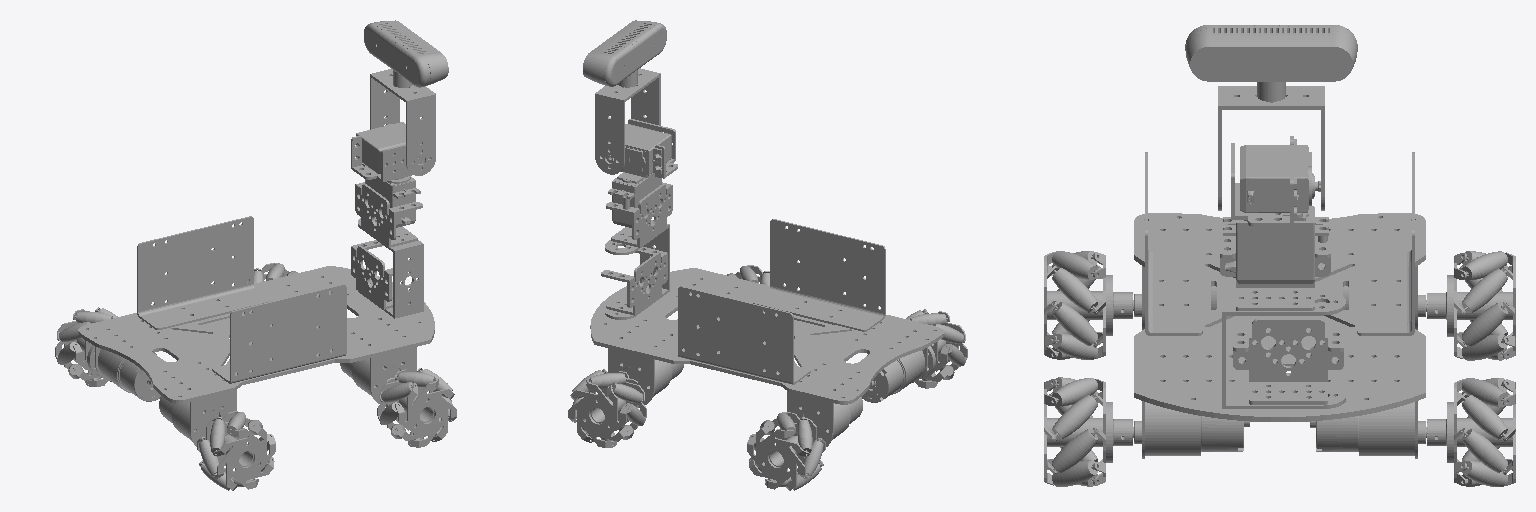
--- Facts derived from the render (not from the file) ---
3 views of the same robot in one strip: view 1: azimuth 30°, elevation 25°; view 2: azimuth 150°, elevation 25°; view 3: azimuth 270°, elevation 25° (orthographic).
Robot: CAR_v000 — 57 links, 56 joints (38 continuous, 18 fixed); root link base_link; default pose: every joint at zero.
Visible links, largest first — view 1: base_link, Side_board_2, Side_board_1, Gear_Pan_Neck_1, D354_1, RightWheel_2, LeftWheel_2, Gear_Pan_Base_1, carboat_2_1, carboat_bot_1, Wheel_Motor_1, carboat_3_1 (+7 smaller); view 2: base_link, Side_board_1, Side_board_2, Gear_Pan_Neck_1, D354_1, LeftWheel_1, RightWheel_1, carboat_bot_1, carboat_2_1, Servo2_1, Wheel_Motor_4, Servo1_1 (+7 smaller); view 3: base_link, D354_1, carboat_bot_1, Servo1_1, Side_board_1, Side_board_2, Servo2_1, Wheel_Motor_2, Wheel_Motor_3, carboat_2_1, LeftWheel_1, LeftWheel_2 (+22 smaller).
Link boxes in pixels (left/top/right/bottom): base_link: left=78, top=266, right=434, bottom=403; Side_board_2: left=137, top=216, right=270, bottom=329; Side_board_1: left=212, top=284, right=346, bottom=383; Gear_Pan_Neck_1: left=370, top=69, right=435, bottom=175; D354_1: left=364, top=20, right=448, bottom=87; RightWheel_2: left=377, top=368, right=456, bottom=447; LeftWheel_2: left=197, top=411, right=275, bottom=490; Gear_Pan_Base_1: left=358, top=217, right=423, bottom=318; carboat_2_1: left=355, top=182, right=422, bottom=247; carboat_bot_1: left=351, top=240, right=409, bottom=309; Wheel_Motor_1: left=98, top=349, right=160, bottom=401; carboat_3_1: left=351, top=136, right=429, bottom=182; base_link: left=590, top=268, right=943, bottom=404; Side_board_1: left=753, top=219, right=885, bottom=331; Side_board_2: left=678, top=286, right=810, bottom=384; Gear_Pan_Neck_1: left=595, top=68, right=660, bottom=174; D354_1: left=583, top=20, right=666, bottom=86; LeftWheel_1: left=568, top=369, right=646, bottom=447; RightWheel_1: left=747, top=412, right=825, bottom=490; carboat_bot_1: left=601, top=247, right=667, bottom=315; carboat_2_1: left=606, top=182, right=672, bottom=247; Servo2_1: left=601, top=124, right=671, bottom=175; Wheel_Motor_4: left=862, top=350, right=924, bottom=402; Servo1_1: left=608, top=172, right=661, bottom=227; base_link: left=1134, top=213, right=1425, bottom=421; D354_1: left=1185, top=25, right=1357, bottom=81; carboat_bot_1: left=1233, top=319, right=1343, bottom=404; Servo1_1: left=1223, top=206, right=1328, bottom=283; Side_board_1: left=1145, top=152, right=1202, bottom=335; Side_board_2: left=1357, top=152, right=1414, bottom=335; Servo2_1: left=1240, top=139, right=1320, bottom=218; Wheel_Motor_2: left=1310, top=402, right=1437, bottom=455; Wheel_Motor_3: left=1122, top=402, right=1249, bottom=455; carboat_2_1: left=1220, top=233, right=1330, bottom=310; LeftWheel_1: left=1427, top=379, right=1515, bottom=485; LeftWheel_2: left=1044, top=252, right=1132, bottom=358.
Bounding box of the posed robot: 0.2587 × 0.2457 × 0.2818 m (x, y, z).
Meshes: 57 distinct files referenced, 57 mesh visuals loaded (57 binary STL).

URDF robot description (CAR_v000):
<?xml version="1.0" ?>
<robot name="CAR_v000">

<material name="silver">
  <color rgba="0.700 0.700 0.700 1.000"/>
</material>

<link name="base_link">
  <inertial>
    <origin rpy="0 0 0" xyz="0.09570508957541472 -0.007999999999984186 -0.001500000000000009"/>
    <mass value="0.7665979453758464"/>
    <inertia ixx="0.001404" ixy="-0.0" ixz="0.0" iyy="0.00383" iyz="-0.0" izz="0.005233"/>
  </inertial>
  <visual>
    <origin rpy="0 0 0" xyz="0 0 0"/>
    <geometry>
      <mesh filename="meshes/base_link.stl" scale="0.001 0.001 0.001"/>
    </geometry>
    <material name="silver"/>
  </visual>
  <collision>
    <origin rpy="0 0 0" xyz="0 0 0"/>
    <geometry>
      <mesh filename="meshes/base_link.stl" scale="0.001 0.001 0.001"/>
    </geometry>
  </collision>
</link>

<link name="Wheel_Motor_holder_v4_1">
  <inertial>
    <origin rpy="0 0 0" xyz="0.014980279064389493 -0.0014695146767486275 -0.009738743339461516"/>
    <mass value="0.04206846428767663"/>
    <inertia ixx="1.5e-05" ixy="0.0" ixz="-0.0" iyy="1.3e-05" iyz="4e-06" izz="1.4e-05"/>
  </inertial>
  <visual>
    <origin rpy="0 0 0" xyz="0.009 -0.053 0.003"/>
    <geometry>
      <mesh filename="meshes/Wheel_Motor_holder_v4_1.stl" scale="0.001 0.001 0.001"/>
    </geometry>
    <material name="silver"/>
  </visual>
  <collision>
    <origin rpy="0 0 0" xyz="0.009 -0.053 0.003"/>
    <geometry>
      <mesh filename="meshes/Wheel_Motor_holder_v4_1.stl" scale="0.001 0.001 0.001"/>
    </geometry>
  </collision>
</link>

<link name="Wheel_Motor_holder_v4_2">
  <inertial>
    <origin rpy="0 0 0" xyz="-0.01501995653690974 -0.0014695146767421535 -0.009738743339461703"/>
    <mass value="0.04206846428767663"/>
    <inertia ixx="1.5e-05" ixy="0.0" ixz="-0.0" iyy="1.3e-05" iyz="4e-06" izz="1.4e-05"/>
  </inertial>
  <visual>
    <origin rpy="0 0 0" xyz="-0.177224 -0.053 0.003"/>
    <geometry>
      <mesh filename="meshes/Wheel_Motor_holder_v4_2.stl" scale="0.001 0.001 0.001"/>
    </geometry>
    <material name="silver"/>
  </visual>
  <collision>
    <origin rpy="0 0 0" xyz="-0.177224 -0.053 0.003"/>
    <geometry>
      <mesh filename="meshes/Wheel_Motor_holder_v4_2.stl" scale="0.001 0.001 0.001"/>
    </geometry>
  </collision>
</link>

<link name="Wheel_Motor_holder_v4_3">
  <inertial>
    <origin rpy="0 0 0" xyz="-0.014980514665696831 0.0014695146767694511 -0.009738743339462005"/>
    <mass value="0.04206846428767663"/>
    <inertia ixx="1.5e-05" ixy="0.0" ixz="0.0" iyy="1.3e-05" iyz="-4e-06" izz="1.4e-05"/>
  </inertial>
  <visual>
    <origin rpy="0 0 0" xyz="-0.177224 0.069 0.003"/>
    <geometry>
      <mesh filename="meshes/Wheel_Motor_holder_v4_3.stl" scale="0.001 0.001 0.001"/>
    </geometry>
    <material name="silver"/>
  </visual>
  <collision>
    <origin rpy="0 0 0" xyz="-0.177224 0.069 0.003"/>
    <geometry>
      <mesh filename="meshes/Wheel_Motor_holder_v4_3.stl" scale="0.001 0.001 0.001"/>
    </geometry>
  </collision>
</link>

<link name="Wheel_Motor_holder_v4_4">
  <inertial>
    <origin rpy="0 0 0" xyz="0.015019720935602422 0.001469514676748787 -0.00973874333946173"/>
    <mass value="0.04206846428767663"/>
    <inertia ixx="1.5e-05" ixy="0.0" ixz="0.0" iyy="1.3e-05" iyz="-4e-06" izz="1.4e-05"/>
  </inertial>
  <visual>
    <origin rpy="0 0 0" xyz="0.009 0.069 0.003"/>
    <geometry>
      <mesh filename="meshes/Wheel_Motor_holder_v4_4.stl" scale="0.001 0.001 0.001"/>
    </geometry>
    <material name="silver"/>
  </visual>
  <collision>
    <origin rpy="0 0 0" xyz="0.009 0.069 0.003"/>
    <geometry>
      <mesh filename="meshes/Wheel_Motor_holder_v4_4.stl" scale="0.001 0.001 0.001"/>
    </geometry>
  </collision>
</link>

<link name="Side_board_1">
  <inertial>
    <origin rpy="0 0 0" xyz="-0.01494917383573581 -0.0028935529397421528 0.020556902828266686"/>
    <mass value="0.10281385598487688"/>
    <inertia ixx="4.7e-05" ixy="0.0" ixz="-0.0" iyy="0.000126" iyz="1e-05" izz="9.3e-05"/>
  </inertial>
  <visual>
    <origin rpy="0 0 0" xyz="-0.087 0.0699 0.0"/>
    <geometry>
      <mesh filename="meshes/Side_board_1.stl" scale="0.001 0.001 0.001"/>
    </geometry>
    <material name="silver"/>
  </visual>
  <collision>
    <origin rpy="0 0 0" xyz="-0.087 0.0699 0.0"/>
    <geometry>
      <mesh filename="meshes/Side_board_1.stl" scale="0.001 0.001 0.001"/>
    </geometry>
  </collision>
</link>

<link name="Side_board_2">
  <inertial>
    <origin rpy="0 0 0" xyz="0.014949173835727282 0.0028935529397536713 0.020556902828266877"/>
    <mass value="0.10281385598487688"/>
    <inertia ixx="4.7e-05" ixy="0.0" ixz="0.0" iyy="0.000126" iyz="-1e-05" izz="9.3e-05"/>
  </inertial>
  <visual>
    <origin rpy="0 0 0" xyz="-0.057 -0.0539 -0.0"/>
    <geometry>
      <mesh filename="meshes/Side_board_2.stl" scale="0.001 0.001 0.001"/>
    </geometry>
    <material name="silver"/>
  </visual>
  <collision>
    <origin rpy="0 0 0" xyz="-0.057 -0.0539 -0.0"/>
    <geometry>
      <mesh filename="meshes/Side_board_2.stl" scale="0.001 0.001 0.001"/>
    </geometry>
  </collision>
</link>

<link name="Gear_Pan_Base_1">
  <inertial>
    <origin rpy="0 0 0" xyz="-3.3728011883393805e-07 -0.023523519255164074 0.02799999999429037"/>
    <mass value="0.06854334361559104"/>
    <inertia ixx="6.7e-05" ixy="-0.0" ixz="0.0" iyy="4.4e-05" iyz="0.0" izz="3.1e-05"/>
  </inertial>
  <visual>
    <origin rpy="0 0 0" xyz="-0.199724 -0.007 -0.0"/>
    <geometry>
      <mesh filename="meshes/Gear_Pan_Base_1.stl" scale="0.001 0.001 0.001"/>
    </geometry>
    <material name="silver"/>
  </visual>
  <collision>
    <origin rpy="0 0 0" xyz="-0.199724 -0.007 -0.0"/>
    <geometry>
      <mesh filename="meshes/Gear_Pan_Base_1.stl" scale="0.001 0.001 0.001"/>
    </geometry>
  </collision>
</link>

<link name="carboat_bot_1">
  <inertial>
    <origin rpy="0 0 0" xyz="-0.007337979399613531 0.017499972137289294 0.014605907953560182"/>
    <mass value="0.0475172457350421"/>
    <inertia ixx="2e-05" ixy="0.0" ixz="1e-06" iyy="1.1e-05" iyz="0.0" izz="1.5e-05"/>
  </inertial>
  <visual>
    <origin rpy="0 0 0" xyz="-0.199724 0.021 -0.0021"/>
    <geometry>
      <mesh filename="meshes/carboat_bot_1.stl" scale="0.001 0.001 0.001"/>
    </geometry>
    <material name="silver"/>
  </visual>
  <collision>
    <origin rpy="0 0 0" xyz="-0.199724 0.021 -0.0021"/>
    <geometry>
      <mesh filename="meshes/carboat_bot_1.stl" scale="0.001 0.001 0.001"/>
    </geometry>
  </collision>
</link>

<link name="carboat_2_1">
  <inertial>
    <origin rpy="0 0 0" xyz="-0.00733797939961317 0.010499972137289105 0.014605907953560197"/>
    <mass value="0.0475172457350421"/>
    <inertia ixx="2e-05" ixy="0.0" ixz="1e-06" iyy="1.1e-05" iyz="0.0" izz="1.5e-05"/>
  </inertial>
  <visual>
    <origin rpy="0 0 0" xyz="-0.199724 0.021 -0.056"/>
    <geometry>
      <mesh filename="meshes/carboat_2_1.stl" scale="0.001 0.001 0.001"/>
    </geometry>
    <material name="silver"/>
  </visual>
  <collision>
    <origin rpy="0 0 0" xyz="-0.199724 0.021 -0.056"/>
    <geometry>
      <mesh filename="meshes/carboat_2_1.stl" scale="0.001 0.001 0.001"/>
    </geometry>
  </collision>
</link>

<link name="carboat_3_1">
  <inertial>
    <origin rpy="0 0 0" xyz="-2.5216919485870903e-07 0.0005055238507020443 0.005662256589116094"/>
    <mass value="0.0475172457350421"/>
    <inertia ixx="1.1e-05" ixy="0.0" ixz="0.0" iyy="1.5e-05" iyz="1e-06" izz="2e-05"/>
  </inertial>
  <visual>
    <origin rpy="0 0 0" xyz="-0.199739 0.019476 -0.113752"/>
    <geometry>
      <mesh filename="meshes/carboat_3_1.stl" scale="0.001 0.001 0.001"/>
    </geometry>
    <material name="silver"/>
  </visual>
  <collision>
    <origin rpy="0 0 0" xyz="-0.199739 0.019476 -0.113752"/>
    <geometry>
      <mesh filename="meshes/carboat_3_1.stl" scale="0.001 0.001 0.001"/>
    </geometry>
  </collision>
</link>

<link name="motor_support_1">
  <inertial>
    <origin rpy="0 0 0" xyz="-2.2430746302037896e-07 -3.8410285859748206e-07 0.004826000000000011"/>
    <mass value="0.0009521312819828578"/>
    <inertia ixx="0.0" ixy="-0.0" ixz="0.0" iyy="0.0" iyz="-0.0" izz="0.0"/>
  </inertial>
  <visual>
    <origin rpy="0 0 0" xyz="-0.194739 -0.014374 -0.0887"/>
    <geometry>
      <mesh filename="meshes/motor_support_1.stl" scale="0.001 0.001 0.001"/>
    </geometry>
    <material name="silver"/>
  </visual>
  <collision>
    <origin rpy="0 0 0" xyz="-0.194739 -0.014374 -0.0887"/>
    <geometry>
      <mesh filename="meshes/motor_support_1.stl" scale="0.001 0.001 0.001"/>
    </geometry>
  </collision>
</link>

<link name="Servo1_1">
  <inertial>
    <origin rpy="0 0 0" xyz="0.004999776361403502 -0.024825025821425904 -0.009085741817137366"/>
    <mass value="0.25554569845209546"/>
    <inertia ixx="6.7e-05" ixy="0.0" ixz="-0.0" iyy="3.9e-05" iyz="0.0" izz="4.7e-05"/>
  </inertial>
  <visual>
    <origin rpy="0 0 0" xyz="-0.194739 -0.014374 -0.098352"/>
    <geometry>
      <mesh filename="meshes/Servo1_1.stl" scale="0.001 0.001 0.001"/>
    </geometry>
    <material name="silver"/>
  </visual>
  <collision>
    <origin rpy="0 0 0" xyz="-0.194739 -0.014374 -0.098352"/>
    <geometry>
      <mesh filename="meshes/Servo1_1.stl" scale="0.001 0.001 0.001"/>
    </geometry>
  </collision>
</link>

<link name="Camera_support_1">
  <inertial>
    <origin rpy="0 0 0" xyz="3.9159065723382014e-07 -3.841030241733684e-07 0.006350011703253555"/>
    <mass value="0.012606343453885066"/>
    <inertia ixx="0.0" ixy="0.0" ixz="0.0" iyy="0.0" iyz="0.0" izz="0.0"/>
  </inertial>
  <visual>
    <origin rpy="0 0 0" xyz="-0.209162 0.012426 -0.178792"/>
    <geometry>
      <mesh filename="meshes/Camera_support_1.stl" scale="0.001 0.001 0.001"/>
    </geometry>
    <material name="silver"/>
  </visual>
  <collision>
    <origin rpy="0 0 0" xyz="-0.209162 0.012426 -0.178792"/>
    <geometry>
      <mesh filename="meshes/Camera_support_1.stl" scale="0.001 0.001 0.001"/>
    </geometry>
  </collision>
</link>

<link name="D354_1">
  <inertial>
    <origin rpy="0 0 0" xyz="0.0019018702340913296 0.00024690506094453626 0.012439152691298971"/>
    <mass value="0.35132125245300416"/>
    <inertia ixx="0.000227" ixy="-1e-06" ixz="-0.0" iyy="3.2e-05" iyz="-0.0" izz="0.000229"/>
  </inertial>
  <visual>
    <origin rpy="0 0 0" xyz="-0.209162 0.012426 -0.191492"/>
    <geometry>
      <mesh filename="meshes/D354_1.stl" scale="0.001 0.001 0.001"/>
    </geometry>
    <material name="silver"/>
  </visual>
  <collision>
    <origin rpy="0 0 0" xyz="-0.209162 0.012426 -0.191492"/>
    <geometry>
      <mesh filename="meshes/D354_1.stl" scale="0.001 0.001 0.001"/>
    </geometry>
  </collision>
</link>

<link name="Wheel_Motor_1">
  <inertial>
    <origin rpy="0 0 0" xyz="-0.01549413298973287 -0.024753744950228453 -0.00033026828675572495"/>
    <mass value="0.1253897990307548"/>
    <inertia ixx="5.8e-05" ixy="0.0" ixz="-0.0" iyy="2.2e-05" iyz="1e-06" izz="5.8e-05"/>
  </inertial>
  <visual>
    <origin rpy="0 0 0" xyz="-0.0218 -0.06235 0.029675"/>
    <geometry>
      <mesh filename="meshes/Wheel_Motor_1.stl" scale="0.001 0.001 0.001"/>
    </geometry>
    <material name="silver"/>
  </visual>
  <collision>
    <origin rpy="0 0 0" xyz="-0.0218 -0.06235 0.029675"/>
    <geometry>
      <mesh filename="meshes/Wheel_Motor_1.stl" scale="0.001 0.001 0.001"/>
    </geometry>
  </collision>
</link>

<link name="Wheel_Motor_2">
  <inertial>
    <origin rpy="0 0 0" xyz="-0.015494368591032287 -0.024753744950222062 -0.0003302682867558915"/>
    <mass value="0.1253897990307548"/>
    <inertia ixx="5.8e-05" ixy="0.0" ixz="-0.0" iyy="2.2e-05" iyz="1e-06" izz="5.8e-05"/>
  </inertial>
  <visual>
    <origin rpy="0 0 0" xyz="-0.178024 -0.06235 0.029675"/>
    <geometry>
      <mesh filename="meshes/Wheel_Motor_2.stl" scale="0.001 0.001 0.001"/>
    </geometry>
    <material name="silver"/>
  </visual>
  <collision>
    <origin rpy="0 0 0" xyz="-0.178024 -0.06235 0.029675"/>
    <geometry>
      <mesh filename="meshes/Wheel_Motor_2.stl" scale="0.001 0.001 0.001"/>
    </geometry>
  </collision>
</link>

<link name="Wheel_Motor_3">
  <inertial>
    <origin rpy="0 0 0" xyz="-0.015506102611575256 0.024753744950248603 -0.0003302682867560927"/>
    <mass value="0.1253897990307548"/>
    <inertia ixx="5.8e-05" ixy="0.0" ixz="0.0" iyy="2.2e-05" iyz="-1e-06" izz="5.8e-05"/>
  </inertial>
  <visual>
    <origin rpy="0 0 0" xyz="-0.177674 0.07835 0.029675"/>
    <geometry>
      <mesh filename="meshes/Wheel_Motor_3.stl" scale="0.001 0.001 0.001"/>
    </geometry>
    <material name="silver"/>
  </visual>
  <collision>
    <origin rpy="0 0 0" xyz="-0.177674 0.07835 0.029675"/>
    <geometry>
      <mesh filename="meshes/Wheel_Motor_3.stl" scale="0.001 0.001 0.001"/>
    </geometry>
  </collision>
</link>

<link name="Wheel_Motor_4">
  <inertial>
    <origin rpy="0 0 0" xyz="0.015494132989723877 0.02475374495022936 -0.0003302682867558568"/>
    <mass value="0.1253897990307548"/>
    <inertia ixx="5.8e-05" ixy="0.0" ixz="0.0" iyy="2.2e-05" iyz="-1e-06" izz="5.8e-05"/>
  </inertial>
  <visual>
    <origin rpy="0 0 0" xyz="0.0098 0.07835 0.029675"/>
    <geometry>
      <mesh filename="meshes/Wheel_Motor_4.stl" scale="0.001 0.001 0.001"/>
    </geometry>
    <material name="silver"/>
  </visual>
  <collision>
    <origin rpy="0 0 0" xyz="0.0098 0.07835 0.029675"/>
    <geometry>
      <mesh filename="meshes/Wheel_Motor_4.stl" scale="0.001 0.001 0.001"/>
    </geometry>
  </collision>
</link>

<link name="satelitewheel_1">
  <inertial>
    <origin rpy="0 0 0" xyz="1.3397573075946134e-07 -3.6957705445983535e-07 6.742742474780128e-08"/>
    <mass value="0.0020070751161032695"/>
    <inertia ixx="0.0" ixy="-0.0" ixz="0.0" iyy="0.0" iyz="-0.0" izz="0.0"/>
  </inertial>
  <visual>
    <origin rpy="0 0 0" xyz="-0.162525 -0.098849 0.013646"/>
    <geometry>
      <mesh filename="meshes/satelitewheel_1.stl" scale="0.001 0.001 0.001"/>
    </geometry>
    <material name="silver"/>
  </visual>
  <collision>
    <origin rpy="0 0 0" xyz="-0.162525 -0.098849 0.013646"/>
    <geometry>
      <mesh filename="meshes/satelitewheel_1.stl" scale="0.001 0.001 0.001"/>
    </geometry>
  </collision>
</link>

<link name="satelitewheel_2">
  <inertial>
    <origin rpy="0 0 0" xyz="-2.7690643081279553e-07 -3.6957705516760253e-07 -2.1820454366994202e-08"/>
    <mass value="0.0020070751161032695"/>
    <inertia ixx="0.0" ixy="-0.0" ixz="-0.0" iyy="0.0" iyz="-0.0" izz="0.0"/>
  </inertial>
  <visual>
    <origin rpy="0 0 0" xyz="-0.146241 -0.098849 0.02039"/>
    <geometry>
      <mesh filename="meshes/satelitewheel_2.stl" scale="0.001 0.001 0.001"/>
    </geometry>
    <material name="silver"/>
  </visual>
  <collision>
    <origin rpy="0 0 0" xyz="-0.146241 -0.098849 0.02039"/>
    <geometry>
      <mesh filename="meshes/satelitewheel_2.stl" scale="0.001 0.001 0.001"/>
    </geometry>
  </collision>
</link>

<link name="satelitewheel_3">
  <inertial>
    <origin rpy="0 0 0" xyz="-3.030287325234138e-07 -3.6957705445983535e-07 3.6957703840323486e-07"/>
    <mass value="0.0020070751161032695"/>
    <inertia ixx="0.0" ixy="-0.0" ixz="0.0" iyy="0.0" iyz="-0.0" izz="0.0"/>
  </inertial>
  <visual>
    <origin rpy="0 0 0" xyz="-0.139495 -0.098849 0.036674"/>
    <geometry>
      <mesh filename="meshes/satelitewheel_3.stl" scale="0.001 0.001 0.001"/>
    </geometry>
    <material name="silver"/>
  </visual>
  <collision>
    <origin rpy="0 0 0" xyz="-0.139495 -0.098849 0.036674"/>
    <geometry>
      <mesh filename="meshes/satelitewheel_3.stl" scale="0.001 0.001 0.001"/>
    </geometry>
  </collision>
</link>

<link name="satelitewheel_4">
  <inertial>
    <origin rpy="0 0 0" xyz="-2.1378085279799564e-07 -3.695770543210575e-07 -4.1305121635526465e-08"/>
    <mass value="0.0020070751161032695"/>
    <inertia ixx="0.0" ixy="0.0" ixz="0.0" iyy="0.0" iyz="-0.0" izz="0.0"/>
  </inertial>
  <visual>
    <origin rpy="0 0 0" xyz="-0.146239 -0.098849 0.052958"/>
    <geometry>
      <mesh filename="meshes/satelitewheel_4.stl" scale="0.001 0.001 0.001"/>
    </geometry>
    <material name="silver"/>
  </visual>
  <collision>
    <origin rpy="0 0 0" xyz="-0.146239 -0.098849 0.052958"/>
    <geometry>
      <mesh filename="meshes/satelitewheel_4.stl" scale="0.001 0.001 0.001"/>
    </geometry>
  </collision>
</link>

<link name="satelitewheel_5">
  <inertial>
    <origin rpy="0 0 0" xyz="3.9482165470339226e-07 -3.695770543210575e-07 -6.742742346410591e-08"/>
    <mass value="0.0020070751161032695"/>
    <inertia ixx="0.0" ixy="0.0" ixz="-0.0" iyy="0.0" iyz="-0.0" izz="0.0"/>
  </inertial>
  <visual>
    <origin rpy="0 0 0" xyz="-0.162522 -0.098849 0.059704"/>
    <geometry>
      <mesh filename="meshes/satelitewheel_5.stl" scale="0.001 0.001 0.001"/>
    </geometry>
    <material name="silver"/>
  </visual>
  <collision>
    <origin rpy="0 0 0" xyz="-0.162522 -0.098849 0.059704"/>
    <geometry>
      <mesh filename="meshes/satelitewheel_5.stl" scale="0.001 0.001 0.001"/>
    </geometry>
  </collision>
</link>

<link name="satelitewheel_6">
  <inertial>
    <origin rpy="0 0 0" xyz="-1.9429618525190762e-07 -3.6957705402962393e-07 2.1820456171106617e-08"/>
    <mass value="0.0020070751161032695"/>
    <inertia ixx="0.0" ixy="0.0" ixz="-0.0" iyy="0.0" iyz="0.0" izz="0.0"/>
  </inertial>
  <visual>
    <origin rpy="0 0 0" xyz="-0.178807 -0.098849 0.05296"/>
    <geometry>
      <mesh filename="meshes/satelitewheel_6.stl" scale="0.001 0.001 0.001"/>
    </geometry>
    <material name="silver"/>
  </visual>
  <collision>
    <origin rpy="0 0 0" xyz="-0.178807 -0.098849 0.05296"/>
    <geometry>
      <mesh filename="meshes/satelitewheel_6.stl" scale="0.001 0.001 0.001"/>
    </geometry>
  </collision>
</link>

<link name="satelitewheel_7">
  <inertial>
    <origin rpy="0 0 0" xyz="-1.6817388420742319e-07 -3.695770537520682e-07 -3.695770371334173e-07"/>
    <mass value="0.0020070751161032695"/>
    <inertia ixx="0.0" ixy="0.0" ixz="0.0" iyy="0.0" iyz="0.0" izz="0.0"/>
  </inertial>
  <visual>
    <origin rpy="0 0 0" xyz="-0.185553 -0.098849 0.036676"/>
    <geometry>
      <mesh filename="meshes/satelitewheel_7.stl" scale="0.001 0.001 0.001"/>
    </geometry>
    <material name="silver"/>
  </visual>
  <collision>
    <origin rpy="0 0 0" xyz="-0.185553 -0.098849 0.036676"/>
    <geometry>
      <mesh filename="meshes/satelitewheel_7.stl" scale="0.001 0.001 0.001"/>
    </geometry>
  </collision>
</link>

<link name="satelitewheel_8">
  <inertial>
    <origin rpy="0 0 0" xyz="-2.5742176334997424e-07 -3.695770537520682e-07 4.130512357841676e-08"/>
    <mass value="0.0020070751161032695"/>
    <inertia ixx="0.0" ixy="-0.0" ixz="0.0" iyy="0.0" iyz="0.0" izz="0.0"/>
  </inertial>
  <visual>
    <origin rpy="0 0 0" xyz="-0.178809 -0.098849 0.020392"/>
    <geometry>
      <mesh filename="meshes/satelitewheel_8.stl" scale="0.001 0.001 0.001"/>
    </geometry>
    <material name="silver"/>
  </visual>
  <collision>
    <origin rpy="0 0 0" xyz="-0.178809 -0.098849 0.020392"/>
    <geometry>
      <mesh filename="meshes/satelitewheel_8.stl" scale="0.001 0.001 0.001"/>
    </geometry>
  </collision>
</link>

<link name="satelitewheel_r_1">
  <inertial>
    <origin rpy="0 0 0" xyz="2.1820446501757962e-08 -3.6957706120444023e-07 4.130512300942746e-08"/>
    <mass value="0.0020070751161032695"/>
    <inertia ixx="0.0" ixy="0.0" ixz="-0.0" iyy="0.0" iyz="0.0" izz="0.0"/>
  </inertial>
  <visual>
    <origin rpy="0 0 0" xyz="0.009985 -0.098849 0.020392"/>
    <geometry>
      <mesh filename="meshes/satelitewheel_r_1.stl" scale="0.001 0.001 0.001"/>
    </geometry>
    <material name="silver"/>
  </visual>
  <collision>
    <origin rpy="0 0 0" xyz="0.009985 -0.098849 0.020392"/>
    <geometry>
      <mesh filename="meshes/satelitewheel_r_1.stl" scale="0.001 0.001 0.001"/>
    </geometry>
  </collision>
</link>

<link name="satelitewheel_r_2">
  <inertial>
    <origin rpy="0 0 0" xyz="-6.742743233201232e-08 -3.695770607881066e-07 -3.6957703727913405e-07"/>
    <mass value="0.0020070751161032695"/>
    <inertia ixx="0.0" ixy="-0.0" ixz="-0.0" iyy="0.0" iyz="0.0" izz="0.0"/>
  </inertial>
  <visual>
    <origin rpy="0 0 0" xyz="0.016729 -0.098849 0.036676"/>
    <geometry>
      <mesh filename="meshes/satelitewheel_r_2.stl" scale="0.001 0.001 0.001"/>
    </geometry>
    <material name="silver"/>
  </visual>
  <collision>
    <origin rpy="0 0 0" xyz="0.016729 -0.098849 0.036676"/>
    <geometry>
      <mesh filename="meshes/satelitewheel_r_2.stl" scale="0.001 0.001 0.001"/>
    </geometry>
  </collision>
</link>

<link name="satelitewheel_r_3">
  <inertial>
    <origin rpy="0 0 0" xyz="-4.1305131122729155e-08 -3.6957706085749553e-07 2.1820456129473254e-08"/>
    <mass value="0.0020070751161032695"/>
    <inertia ixx="0.0" ixy="-0.0" ixz="0.0" iyy="0.0" iyz="0.0" izz="0.0"/>
  </inertial>
  <visual>
    <origin rpy="0 0 0" xyz="0.009983 -0.098849 0.05296"/>
    <geometry>
      <mesh filename="meshes/satelitewheel_r_3.stl" scale="0.001 0.001 0.001"/>
    </geometry>
    <material name="silver"/>
  </visual>
  <collision>
    <origin rpy="0 0 0" xyz="0.009983 -0.098849 0.05296"/>
    <geometry>
      <mesh filename="meshes/satelitewheel_r_3.stl" scale="0.001 0.001 0.001"/>
    </geometry>
  </collision>
</link>

<link name="satelitewheel_r_4">
  <inertial>
    <origin rpy="0 0 0" xyz="3.695770294477249e-07 -3.6957706149587377e-07 -6.74274230200167e-08"/>
    <mass value="0.0020070751161032695"/>
    <inertia ixx="0.0" ixy="-0.0" ixz="-0.0" iyy="0.0" iyz="0.0" izz="0.0"/>
  </inertial>
  <visual>
    <origin rpy="0 0 0" xyz="-0.006301 -0.098849 0.059704"/>
    <geometry>
      <mesh filename="meshes/satelitewheel_r_4.stl" scale="0.001 0.001 0.001"/>
    </geometry>
    <material name="silver"/>
  </visual>
  <collision>
    <origin rpy="0 0 0" xyz="-0.006301 -0.098849 0.059704"/>
    <geometry>
      <mesh filename="meshes/satelitewheel_r_4.stl" scale="0.001 0.001 0.001"/>
    </geometry>
  </collision>
</link>

<link name="satelitewheel_r_5">
  <inertial>
    <origin rpy="0 0 0" xyz="-2.1820463571436965e-08 -3.695770609962734e-07 -4.1305121954715585e-08"/>
    <mass value="0.0020070751161032695"/>
    <inertia ixx="0.0" ixy="-0.0" ixz="-0.0" iyy="0.0" iyz="-0.0" izz="0.0"/>
  </inertial>
  <visual>
    <origin rpy="0 0 0" xyz="-0.022585 -0.098849 0.052958"/>
    <geometry>
      <mesh filename="meshes/satelitewheel_r_5.stl" scale="0.001 0.001 0.001"/>
    </geometry>
    <material name="silver"/>
  </visual>
  <collision>
    <origin rpy="0 0 0" xyz="-0.022585 -0.098849 0.052958"/>
    <geometry>
      <mesh filename="meshes/satelitewheel_r_5.stl" scale="0.001 0.001 0.001"/>
    </geometry>
  </collision>
</link>

<link name="satelitewheel_r_6">
  <inertial>
    <origin rpy="0 0 0" xyz="6.742741604295888e-08 -3.6957706163465165e-07 3.6957703861834057e-07"/>
    <mass value="0.0020070751161032695"/>
    <inertia ixx="0.0" ixy="0.0" ixz="-0.0" iyy="0.0" iyz="-0.0" izz="0.0"/>
  </inertial>
  <visual>
    <origin rpy="0 0 0" xyz="-0.029329 -0.098849 0.036674"/>
    <geometry>
      <mesh filename="meshes/satelitewheel_r_6.stl" scale="0.001 0.001 0.001"/>
    </geometry>
    <material name="silver"/>
  </visual>
  <collision>
    <origin rpy="0 0 0" xyz="-0.029329 -0.098849 0.036674"/>
    <geometry>
      <mesh filename="meshes/satelitewheel_r_6.stl" scale="0.001 0.001 0.001"/>
    </geometry>
  </collision>
</link>

<link name="satelitewheel_r_7">
  <inertial>
    <origin rpy="0 0 0" xyz="4.1305113839679164e-08 -3.695770622730299e-07 -2.1820453655757577e-08"/>
    <mass value="0.0020070751161032695"/>
    <inertia ixx="0.0" ixy="0.0" ixz="0.0" iyy="0.0" iyz="-0.0" izz="0.0"/>
  </inertial>
  <visual>
    <origin rpy="0 0 0" xyz="-0.022583 -0.098849 0.02039"/>
    <geometry>
      <mesh filename="meshes/satelitewheel_r_7.stl" scale="0.001 0.001 0.001"/>
    </geometry>
    <material name="silver"/>
  </visual>
  <collision>
    <origin rpy="0 0 0" xyz="-0.022583 -0.098849 0.02039"/>
    <geometry>
      <mesh filename="meshes/satelitewheel_r_7.stl" scale="0.001 0.001 0.001"/>
    </geometry>
  </collision>
</link>

<link name="satelitewheel_r_8">
  <inertial>
    <origin rpy="0 0 0" xyz="-3.695770468756243e-07 -3.6957706234241883e-07 6.7427425125971e-08"/>
    <mass value="0.0020070751161032695"/>
    <inertia ixx="0.0" ixy="0.0" ixz="-0.0" iyy="0.0" iyz="-0.0" izz="0.0"/>
  </inertial>
  <visual>
    <origin rpy="0 0 0" xyz="-0.006299 -0.098849 0.013646"/>
    <geometry>
      <mesh filename="meshes/satelitewheel_r_8.stl" scale="0.001 0.001 0.001"/>
    </geometry>
    <material name="silver"/>
  </visual>
  <collision>
    <origin rpy="0 0 0" xyz="-0.006299 -0.098849 0.013646"/>
    <geometry>
      <mesh filename="meshes/satelitewheel_r_8.stl" scale="0.001 0.001 0.001"/>
    </geometry>
  </collision>
</link>

<link name="satelitewheel_9">
  <inertial>
    <origin rpy="0 0 0" xyz="-3.6957703730602226e-07 3.695770618289407e-07 6.742742439738714e-08"/>
    <mass value="0.0020070751161032695"/>
    <inertia ixx="0.0" ixy="-0.0" ixz="0.0" iyy="0.0" iyz="-0.0" izz="0.0"/>
  </inertial>
  <visual>
    <origin rpy="0 0 0" xyz="-0.005699 0.114849 0.013646"/>
    <geometry>
      <mesh filename="meshes/satelitewheel_9.stl" scale="0.001 0.001 0.001"/>
    </geometry>
    <material name="silver"/>
  </visual>
  <collision>
    <origin rpy="0 0 0" xyz="-0.005699 0.114849 0.013646"/>
    <geometry>
      <mesh filename="meshes/satelitewheel_9.stl" scale="0.001 0.001 0.001"/>
    </geometry>
  </collision>
</link>

<link name="satelitewheel_11">
  <inertial>
    <origin rpy="0 0 0" xyz="4.130512394270869e-08 3.695770611211735e-07 -2.1820454082499552e-08"/>
    <mass value="0.0020070751161032695"/>
    <inertia ixx="0.0" ixy="-0.0" ixz="0.0" iyy="0.0" iyz="0.0" izz="0.0"/>
  </inertial>
  <visual>
    <origin rpy="0 0 0" xyz="-0.021983 0.114849 0.02039"/>
    <geometry>
      <mesh filename="meshes/satelitewheel_11.stl" scale="0.001 0.001 0.001"/>
    </geometry>
    <material name="silver"/>
  </visual>
  <collision>
    <origin rpy="0 0 0" xyz="-0.021983 0.114849 0.02039"/>
    <geometry>
      <mesh filename="meshes/satelitewheel_11.stl" scale="0.001 0.001 0.001"/>
    </geometry>
  </collision>
</link>

<link name="satelitewheel_12">
  <inertial>
    <origin rpy="0 0 0" xyz="6.74274254139351e-08 3.695770620509853e-07 3.6957703911794093e-07"/>
    <mass value="0.0020070751161032695"/>
    <inertia ixx="0.0" ixy="0.0" ixz="0.0" iyy="0.0" iyz="0.0" izz="0.0"/>
  </inertial>
  <visual>
    <origin rpy="0 0 0" xyz="-0.028729 0.114849 0.036674"/>
    <geometry>
      <mesh filename="meshes/satelitewheel_12.stl" scale="0.001 0.001 0.001"/>
    </geometry>
    <material name="silver"/>
  </visual>
  <collision>
    <origin rpy="0 0 0" xyz="-0.028729 0.114849 0.036674"/>
    <geometry>
      <mesh filename="meshes/satelitewheel_12.stl" scale="0.001 0.001 0.001"/>
    </geometry>
  </collision>
</link>

<link name="satelitewheel_10">
  <inertial>
    <origin rpy="0 0 0" xyz="-2.1820453256771177e-08 3.695770616901628e-07 -4.1305122204515765e-08"/>
    <mass value="0.0020070751161032695"/>
    <inertia ixx="0.0" ixy="0.0" ixz="-0.0" iyy="0.0" iyz="0.0" izz="0.0"/>
  </inertial>
  <visual>
    <origin rpy="0 0 0" xyz="-0.021985 0.114849 0.052958"/>
    <geometry>
      <mesh filename="meshes/satelitewheel_10.stl" scale="0.001 0.001 0.001"/>
    </geometry>
    <material name="silver"/>
  </visual>
  <collision>
    <origin rpy="0 0 0" xyz="-0.021985 0.114849 0.052958"/>
    <geometry>
      <mesh filename="meshes/satelitewheel_10.stl" scale="0.001 0.001 0.001"/>
    </geometry>
  </collision>
</link>

<link name="satelitewheel_13">
  <inertial>
    <origin rpy="0 0 0" xyz="3.695770404380655e-07 3.695770615513849e-07 -6.742742385268397e-08"/>
    <mass value="0.0020070751161032695"/>
    <inertia ixx="0.0" ixy="0.0" ixz="-0.0" iyy="0.0" iyz="-0.0" izz="0.0"/>
  </inertial>
  <visual>
    <origin rpy="0 0 0" xyz="-0.005701 0.114849 0.059704"/>
    <geometry>
      <mesh filename="meshes/satelitewheel_13.stl" scale="0.001 0.001 0.001"/>
    </geometry>
    <material name="silver"/>
  </visual>
  <collision>
    <origin rpy="0 0 0" xyz="-0.005701 0.114849 0.059704"/>
    <geometry>
      <mesh filename="meshes/satelitewheel_13.stl" scale="0.001 0.001 0.001"/>
    </geometry>
  </collision>
</link>

<link name="satelitewheel_16">
  <inertial>
    <origin rpy="0 0 0" xyz="-4.1305121127252487e-08 3.695770610934179e-07 2.1820455033128017e-08"/>
    <mass value="0.0020070751161032695"/>
    <inertia ixx="0.0" ixy="0.0" ixz="0.0" iyy="0.0" iyz="-0.0" izz="0.0"/>
  </inertial>
  <visual>
    <origin rpy="0 0 0" xyz="0.010583 0.114849 0.05296"/>
    <geometry>
      <mesh filename="meshes/satelitewheel_16.stl" scale="0.001 0.001 0.001"/>
    </geometry>
    <material name="silver"/>
  </visual>
  <collision>
    <origin rpy="0 0 0" xyz="0.010583 0.114849 0.05296"/>
    <geometry>
      <mesh filename="meshes/satelitewheel_16.stl" scale="0.001 0.001 0.001"/>
    </geometry>
  </collision>
</link>

<link name="satelitewheel_15">
  <inertial>
    <origin rpy="0 0 0" xyz="-6.742742283613601e-08 3.695770616901628e-07 -3.6957703862527946e-07"/>
    <mass value="0.0020070751161032695"/>
    <inertia ixx="0.0" ixy="-0.0" ixz="0.0" iyy="0.0" iyz="-0.0" izz="0.0"/>
  </inertial>
  <visual>
    <origin rpy="0 0 0" xyz="0.017329 0.114849 0.036676"/>
    <geometry>
      <mesh filename="meshes/satelitewheel_15.stl" scale="0.001 0.001 0.001"/>
    </geometry>
    <material name="silver"/>
  </visual>
  <collision>
    <origin rpy="0 0 0" xyz="0.017329 0.114849 0.036676"/>
    <geometry>
      <mesh filename="meshes/satelitewheel_15.stl" scale="0.001 0.001 0.001"/>
    </geometry>
  </collision>
</link>

<link name="satelitewheel_14">
  <inertial>
    <origin rpy="0 0 0" xyz="2.1820456389681775e-08 3.695770621203742e-07 4.130512294003852e-08"/>
    <mass value="0.0020070751161032695"/>
    <inertia ixx="0.0" ixy="-0.0" ixz="-0.0" iyy="0.0" iyz="-0.0" izz="0.0"/>
  </inertial>
  <visual>
    <origin rpy="0 0 0" xyz="0.010585 0.114849 0.020392"/>
    <geometry>
      <mesh filename="meshes/satelitewheel_14.stl" scale="0.001 0.001 0.001"/>
    </geometry>
    <material name="silver"/>
  </visual>
  <collision>
    <origin rpy="0 0 0" xyz="0.010585 0.114849 0.020392"/>
    <geometry>
      <mesh filename="meshes/satelitewheel_14.stl" scale="0.001 0.001 0.001"/>
    </geometry>
  </collision>
</link>

<link name="satelitewheel_r_9">
  <inertial>
    <origin rpy="0 0 0" xyz="-2.5742175310816684e-07 3.695770815909105e-07 4.1305123116980313e-08"/>
    <mass value="0.0020070751161032695"/>
    <inertia ixx="0.0" ixy="0.0" ixz="0.0" iyy="0.0" iyz="-0.0" izz="0.0"/>
  </inertial>
  <visual>
    <origin rpy="0 0 0" xyz="-0.178459 0.114849 0.020392"/>
    <geometry>
      <mesh filename="meshes/satelitewheel_r_9.stl" scale="0.001 0.001 0.001"/>
    </geometry>
    <material name="silver"/>
  </visual>
  <collision>
    <origin rpy="0 0 0" xyz="-0.178459 0.114849 0.020392"/>
    <geometry>
      <mesh filename="meshes/satelitewheel_r_9.stl" scale="0.001 0.001 0.001"/>
    </geometry>
  </collision>
</link>

<link name="satelitewheel_r_10">
  <inertial>
    <origin rpy="0 0 0" xyz="-1.6817387385459348e-07 3.695770807998766e-07 -3.695770382713959e-07"/>
    <mass value="0.0020070751161032695"/>
    <inertia ixx="0.0" ixy="0.0" ixz="-0.0" iyy="0.0" iyz="-0.0" izz="0.0"/>
  </inertial>
  <visual>
    <origin rpy="0 0 0" xyz="-0.185203 0.114849 0.036676"/>
    <geometry>
      <mesh filename="meshes/satelitewheel_r_10.stl" scale="0.001 0.001 0.001"/>
    </geometry>
    <material name="silver"/>
  </visual>
  <collision>
    <origin rpy="0 0 0" xyz="-0.185203 0.114849 0.036676"/>
    <geometry>
      <mesh filename="meshes/satelitewheel_r_10.stl" scale="0.001 0.001 0.001"/>
    </geometry>
  </collision>
</link>

<link name="satelitewheel_r_11">
  <inertial>
    <origin rpy="0 0 0" xyz="-1.9429617501010021e-07 3.695770810219212e-07 2.1820454998433547e-08"/>
    <mass value="0.0020070751161032695"/>
    <inertia ixx="0.0" ixy="-0.0" ixz="-0.0" iyy="0.0" iyz="-0.0" izz="0.0"/>
  </inertial>
  <visual>
    <origin rpy="0 0 0" xyz="-0.178457 0.114849 0.05296"/>
    <geometry>
      <mesh filename="meshes/satelitewheel_r_11.stl" scale="0.001 0.001 0.001"/>
    </geometry>
    <material name="silver"/>
  </visual>
  <collision>
    <origin rpy="0 0 0" xyz="-0.178457 0.114849 0.05296"/>
    <geometry>
      <mesh filename="meshes/satelitewheel_r_11.stl" scale="0.001 0.001 0.001"/>
    </geometry>
  </collision>
</link>

<link name="satelitewheel_r_16">
  <inertial>
    <origin rpy="0 0 0" xyz="3.948216644455993e-07 3.695770817296884e-07 -6.742742413717862e-08"/>
    <mass value="0.0020070751161032695"/>
    <inertia ixx="0.0" ixy="-0.0" ixz="-0.0" iyy="0.0" iyz="0.0" izz="0.0"/>
  </inertial>
  <visual>
    <origin rpy="0 0 0" xyz="-0.162172 0.114849 0.059704"/>
    <geometry>
      <mesh filename="meshes/satelitewheel_r_16.stl" scale="0.001 0.001 0.001"/>
    </geometry>
    <material name="silver"/>
  </visual>
  <collision>
    <origin rpy="0 0 0" xyz="-0.162172 0.114849 0.059704"/>
    <geometry>
      <mesh filename="meshes/satelitewheel_r_16.stl" scale="0.001 0.001 0.001"/>
    </geometry>
  </collision>
</link>

<link name="satelitewheel_r_15">
  <inertial>
    <origin rpy="0 0 0" xyz="-2.1378084216761017e-07 3.6957708129947697e-07 -4.130512298167188e-08"/>
    <mass value="0.0020070751161032695"/>
    <inertia ixx="0.0" ixy="-0.0" ixz="0.0" iyy="0.0" iyz="0.0" izz="0.0"/>
  </inertial>
  <visual>
    <origin rpy="0 0 0" xyz="-0.145889 0.114849 0.052958"/>
    <geometry>
      <mesh filename="meshes/satelitewheel_r_15.stl" scale="0.001 0.001 0.001"/>
    </geometry>
    <material name="silver"/>
  </visual>
  <collision>
    <origin rpy="0 0 0" xyz="-0.145889 0.114849 0.052958"/>
    <geometry>
      <mesh filename="meshes/satelitewheel_r_15.stl" scale="0.001 0.001 0.001"/>
    </geometry>
  </collision>
</link>

<link name="satelitewheel_r_12">
  <inertial>
    <origin rpy="0 0 0" xyz="-3.0302872186527274e-07 3.6957708145213264e-07 3.6957703804935127e-07"/>
    <mass value="0.0020070751161032695"/>
    <inertia ixx="0.0" ixy="-0.0" ixz="-0.0" iyy="0.0" iyz="0.0" izz="0.0"/>
  </inertial>
  <visual>
    <origin rpy="0 0 0" xyz="-0.139145 0.114849 0.036674"/>
    <geometry>
      <mesh filename="meshes/satelitewheel_r_12.stl" scale="0.001 0.001 0.001"/>
    </geometry>
    <material name="silver"/>
  </visual>
  <collision>
    <origin rpy="0 0 0" xyz="-0.139145 0.114849 0.036674"/>
    <geometry>
      <mesh filename="meshes/satelitewheel_r_12.stl" scale="0.001 0.001 0.001"/>
    </geometry>
  </collision>
</link>

<link name="satelitewheel_r_13">
  <inertial>
    <origin rpy="0 0 0" xyz="-2.7690642068201043e-07 3.695770815909105e-07 -2.1820455362725477e-08"/>
    <mass value="0.0020070751161032695"/>
    <inertia ixx="0.0" ixy="0.0" ixz="-0.0" iyy="0.0" iyz="0.0" izz="0.0"/>
  </inertial>
  <visual>
    <origin rpy="0 0 0" xyz="-0.145891 0.114849 0.02039"/>
    <geometry>
      <mesh filename="meshes/satelitewheel_r_13.stl" scale="0.001 0.001 0.001"/>
    </geometry>
    <material name="silver"/>
  </visual>
  <collision>
    <origin rpy="0 0 0" xyz="-0.145891 0.114849 0.02039"/>
    <geometry>
      <mesh filename="meshes/satelitewheel_r_13.stl" scale="0.001 0.001 0.001"/>
    </geometry>
  </collision>
</link>

<link name="satelitewheel_r_14">
  <inertial>
    <origin rpy="0 0 0" xyz="1.3397574033513493e-07 3.695770811606991e-07 6.742742393942014e-08"/>
    <mass value="0.0020070751161032695"/>
    <inertia ixx="0.0" ixy="0.0" ixz="-0.0" iyy="0.0" iyz="0.0" izz="0.0"/>
  </inertial>
  <visual>
    <origin rpy="0 0 0" xyz="-0.162175 0.114849 0.013646"/>
    <geometry>
      <mesh filename="meshes/satelitewheel_r_14.stl" scale="0.001 0.001 0.001"/>
    </geometry>
    <material name="silver"/>
  </visual>
  <collision>
    <origin rpy="0 0 0" xyz="-0.162175 0.114849 0.013646"/>
    <geometry>
      <mesh filename="meshes/satelitewheel_r_14.stl" scale="0.001 0.001 0.001"/>
    </geometry>
  </collision>
</link>

<link name="LeftWheel_1">
  <inertial>
    <origin rpy="0 0 0" xyz="-2.3560323034188535e-07 0.015199605891814835 5.855822771128061e-12"/>
    <mass value="0.0837215779035776"/>
    <inertia ixx="2.6e-05" ixy="0.0" ixz="-0.0" iyy="1.7e-05" iyz="-0.0" izz="2.6e-05"/>
  </inertial>
  <visual>
    <origin rpy="0 0 0" xyz="-0.162524 -0.07585 0.036675"/>
    <geometry>
      <mesh filename="meshes/LeftWheel_1.stl" scale="0.001 0.001 0.001"/>
    </geometry>
    <material name="silver"/>
  </visual>
  <collision>
    <origin rpy="0 0 0" xyz="-0.162524 -0.07585 0.036675"/>
    <geometry>
      <mesh filename="meshes/LeftWheel_1.stl" scale="0.001 0.001 0.001"/>
    </geometry>
  </collision>
</link>

<link name="RightWheel_1">
  <inertial>
    <origin rpy="0 0 0" xyz="-7.548579816774037e-13 0.015199605891808465 -2.5597510222574726e-12"/>
    <mass value="0.08372157790357845"/>
    <inertia ixx="2.6e-05" ixy="-0.0" ixz="-0.0" iyy="1.7e-05" iyz="-0.0" izz="2.6e-05"/>
  </inertial>
  <visual>
    <origin rpy="0 0 0" xyz="-0.0063 -0.07585 0.036675"/>
    <geometry>
      <mesh filename="meshes/RightWheel_1.stl" scale="0.001 0.001 0.001"/>
    </geometry>
    <material name="silver"/>
  </visual>
  <collision>
    <origin rpy="0 0 0" xyz="-0.0063 -0.07585 0.036675"/>
    <geometry>
      <mesh filename="meshes/RightWheel_1.stl" scale="0.001 0.001 0.001"/>
    </geometry>
  </collision>
</link>

<link name="RightWheel_2">
  <inertial>
    <origin rpy="0 0 0" xyz="-2.356005511794379e-07 -0.015199605891788301 -2.560326950451497e-12"/>
    <mass value="0.08372157790357845"/>
    <inertia ixx="2.6e-05" ixy="-0.0" ixz="0.0" iyy="1.7e-05" iyz="0.0" izz="2.6e-05"/>
  </inertial>
  <visual>
    <origin rpy="0 0 0" xyz="-0.162174 0.09185 0.036675"/>
    <geometry>
      <mesh filename="meshes/RightWheel_2.stl" scale="0.001 0.001 0.001"/>
    </geometry>
    <material name="silver"/>
  </visual>
  <collision>
    <origin rpy="0 0 0" xyz="-0.162174 0.09185 0.036675"/>
    <geometry>
      <mesh filename="meshes/RightWheel_2.stl" scale="0.001 0.001 0.001"/>
    </geometry>
  </collision>
</link>

<link name="LeftWheel_2">
  <inertial>
    <origin rpy="0 0 0" xyz="1.923808334858279e-12 -0.015199605891807577 5.855649298780463e-12"/>
    <mass value="0.0837215779035776"/>
    <inertia ixx="2.6e-05" ixy="0.0" ixz="0.0" iyy="1.7e-05" iyz="0.0" izz="2.6e-05"/>
  </inertial>
  <visual>
    <origin rpy="0 0 0" xyz="-0.0057 0.09185 0.036675"/>
    <geometry>
      <mesh filename="meshes/LeftWheel_2.stl" scale="0.001 0.001 0.001"/>
    </geometry>
    <material name="silver"/>
  </visual>
  <collision>
    <origin rpy="0 0 0" xyz="-0.0057 0.09185 0.036675"/>
    <geometry>
      <mesh filename="meshes/LeftWheel_2.stl" scale="0.001 0.001 0.001"/>
    </geometry>
  </collision>
</link>

<link name="Servo2_1">
  <inertial>
    <origin rpy="0 0 0" xyz="-0.024474966690774896 -0.009086125919995813 0.005000011014387476"/>
    <mass value="0.25554569845209546"/>
    <inertia ixx="3.9e-05" ixy="-0.0" ixz="0.0" iyy="4.7e-05" iyz="0.0" izz="6.7e-05"/>
  </inertial>
  <visual>
    <origin rpy="0 0 0" xyz="-0.224612 0.000876 -0.121767"/>
    <geometry>
      <mesh filename="meshes/Servo2_1.stl" scale="0.001 0.001 0.001"/>
    </geometry>
    <material name="silver"/>
  </visual>
  <collision>
    <origin rpy="0 0 0" xyz="-0.224612 0.000876 -0.121767"/>
    <geometry>
      <mesh filename="meshes/Servo2_1.stl" scale="0.001 0.001 0.001"/>
    </geometry>
  </collision>
</link>

<link name="Gear_Pan_Neck_1">
  <inertial>
    <origin rpy="0 0 0" xyz="2.899118378696386e-07 -0.02695038410856762 0.030523530937439175"/>
    <mass value="0.06854334361559104"/>
    <inertia ixx="6.7e-05" ixy="-0.0" ixz="0.0" iyy="3.1e-05" iyz="-0.0" izz="4.4e-05"/>
  </inertial>
  <visual>
    <origin rpy="0 0 0" xyz="-0.209162 -0.014524 -0.126767"/>
    <geometry>
      <mesh filename="meshes/Gear_Pan_Neck_1.stl" scale="0.001 0.001 0.001"/>
    </geometry>
    <material name="silver"/>
  </visual>
  <collision>
    <origin rpy="0 0 0" xyz="-0.209162 -0.014524 -0.126767"/>
    <geometry>
      <mesh filename="meshes/Gear_Pan_Neck_1.stl" scale="0.001 0.001 0.001"/>
    </geometry>
  </collision>
</link>

<joint name="Rigid31" type="fixed">
  <origin rpy="0 0 0" xyz="-0.009 0.053 -0.003"/>
  <parent link="base_link"/>
  <child link="Wheel_Motor_holder_v4_1"/>
</joint>

<joint name="Rigid32" type="fixed">
  <origin rpy="0 0 0" xyz="0.177224 0.053 -0.003"/>
  <parent link="base_link"/>
  <child link="Wheel_Motor_holder_v4_2"/>
</joint>

<joint name="Rigid33" type="fixed">
  <origin rpy="0 0 0" xyz="0.177224 -0.069 -0.003"/>
  <parent link="base_link"/>
  <child link="Wheel_Motor_holder_v4_3"/>
</joint>

<joint name="Rigid34" type="fixed">
  <origin rpy="0 0 0" xyz="-0.009 -0.069 -0.003"/>
  <parent link="base_link"/>
  <child link="Wheel_Motor_holder_v4_4"/>
</joint>

<joint name="Rigid35" type="fixed">
  <origin rpy="0 0 0" xyz="0.087 -0.0699 0.0"/>
  <parent link="base_link"/>
  <child link="Side_board_1"/>
</joint>

<joint name="Rigid36" type="fixed">
  <origin rpy="0 0 0" xyz="0.057 0.0539 0.0"/>
  <parent link="base_link"/>
  <child link="Side_board_2"/>
</joint>

<joint name="Rigid37" type="fixed">
  <origin rpy="0 0 0" xyz="0.199724 0.007 0.0"/>
  <parent link="base_link"/>
  <child link="Gear_Pan_Base_1"/>
</joint>

<joint name="Rigid38" type="fixed">
  <origin rpy="0 0 0" xyz="0.0 -0.028 0.0021"/>
  <parent link="Gear_Pan_Base_1"/>
  <child link="carboat_bot_1"/>
</joint>

<joint name="Rigid39" type="fixed">
  <origin rpy="0 0 0" xyz="0.0 -0.028 0.056"/>
  <parent link="Gear_Pan_Base_1"/>
  <child link="carboat_2_1"/>
</joint>

<joint name="Bot_motor" type="continuous">
  <origin rpy="0 0 0" xyz="0.005 -0.03385 0.0154"/>
  <parent link="Servo1_1"/>
  <child link="carboat_3_1"/>
  <axis xyz="-0.0 0.0 -1.0"/>
</joint>
<transmission name="Bot_motor_tran">
  <type>transmission_interface/SimpleTransmission</type>
  <joint name="Bot_motor">
    <hardwareInterface>PositionJointInterface</hardwareInterface>
  </joint>
  <actuator name="Bot_motor_actr">
    <hardwareInterface>PositionJointInterface</hardwareInterface>
    <mechanicalReduction>1</mechanicalReduction>
  </actuator>
</transmission>

<joint name="Rigid43" type="fixed">
  <origin rpy="0 0 0" xyz="-0.004985 0.035374 0.0327"/>
  <parent link="carboat_2_1"/>
  <child link="motor_support_1"/>
</joint>

<joint name="Rigid44" type="fixed">
  <origin rpy="0 0 0" xyz="0.0 0.0 0.009652"/>
  <parent link="motor_support_1"/>
  <child link="Servo1_1"/>
</joint>

<joint name="Rigid46" type="fixed">
  <origin rpy="0 0 0" xyz="0.0 -0.02695 0.052025"/>
  <parent link="Gear_Pan_Neck_1"/>
  <child link="Camera_support_1"/>
</joint>

<joint name="Rigid47" type="fixed">
  <origin rpy="0 0 0" xyz="0.0 0.0 0.0127"/>
  <parent link="Camera_support_1"/>
  <child link="D354_1"/>
</joint>

<joint name="Rigid48" type="fixed">
  <origin rpy="0 0 0" xyz="0.0308 0.00935 -0.026675"/>
  <parent link="Wheel_Motor_holder_v4_1"/>
  <child link="Wheel_Motor_1"/>
</joint>

<joint name="Rigid49" type="fixed">
  <origin rpy="0 0 0" xyz="0.0008 0.00935 -0.026675"/>
  <parent link="Wheel_Motor_holder_v4_2"/>
  <child link="Wheel_Motor_2"/>
</joint>

<joint name="Rigid50" type="fixed">
  <origin rpy="0 0 0" xyz="0.00045 -0.00935 -0.026675"/>
  <parent link="Wheel_Motor_holder_v4_3"/>
  <child link="Wheel_Motor_3"/>
</joint>

<joint name="Rigid51" type="fixed">
  <origin rpy="0 0 0" xyz="-0.0008 -0.00935 -0.026675"/>
  <parent link="Wheel_Motor_holder_v4_4"/>
  <child link="Wheel_Motor_4"/>
</joint>

<joint name="Rev57" type="continuous">
  <origin rpy="0 0 0" xyz="1e-06 0.022999 0.023029"/>
  <parent link="LeftWheel_1"/>
  <child link="satelitewheel_1"/>
  <axis xyz="-0.707107 -0.707107 -0.0"/>
</joint>
<transmission name="Rev57_tran">
  <type>transmission_interface/SimpleTransmission</type>
  <joint name="Rev57">
    <hardwareInterface>PositionJointInterface</hardwareInterface>
  </joint>
  <actuator name="Rev57_actr">
    <hardwareInterface>PositionJointInterface</hardwareInterface>
    <mechanicalReduction>1</mechanicalReduction>
  </actuator>
</transmission>

<joint name="Rev58" type="continuous">
  <origin rpy="0 0 0" xyz="-0.016283 0.022999 0.016285"/>
  <parent link="LeftWheel_1"/>
  <child link="satelitewheel_2"/>
  <axis xyz="-0.5 -0.707107 -0.5"/>
</joint>
<transmission name="Rev58_tran">
  <type>transmission_interface/SimpleTransmission</type>
  <joint name="Rev58">
    <hardwareInterface>PositionJointInterface</hardwareInterface>
  </joint>
  <actuator name="Rev58_actr">
    <hardwareInterface>PositionJointInterface</hardwareInterface>
    <mechanicalReduction>1</mechanicalReduction>
  </actuator>
</transmission>

<joint name="Rev59" type="continuous">
  <origin rpy="0 0 0" xyz="-0.023029 0.022999 1e-06"/>
  <parent link="LeftWheel_1"/>
  <child link="satelitewheel_3"/>
  <axis xyz="0.0 -0.707107 -0.707107"/>
</joint>
<transmission name="Rev59_tran">
  <type>transmission_interface/SimpleTransmission</type>
  <joint name="Rev59">
    <hardwareInterface>PositionJointInterface</hardwareInterface>
  </joint>
  <actuator name="Rev59_actr">
    <hardwareInterface>PositionJointInterface</hardwareInterface>
    <mechanicalReduction>1</mechanicalReduction>
  </actuator>
</transmission>

<joint name="Rev60" type="continuous">
  <origin rpy="0 0 0" xyz="-0.016285 0.022999 -0.016283"/>
  <parent link="LeftWheel_1"/>
  <child link="satelitewheel_4"/>
  <axis xyz="0.5 -0.707107 -0.5"/>
</joint>
<transmission name="Rev60_tran">
  <type>transmission_interface/SimpleTransmission</type>
  <joint name="Rev60">
    <hardwareInterface>PositionJointInterface</hardwareInterface>
  </joint>
  <actuator name="Rev60_actr">
    <hardwareInterface>PositionJointInterface</hardwareInterface>
    <mechanicalReduction>1</mechanicalReduction>
  </actuator>
</transmission>

<joint name="Rev61" type="continuous">
  <origin rpy="0 0 0" xyz="-2e-06 0.022999 -0.023029"/>
  <parent link="LeftWheel_1"/>
  <child link="satelitewheel_5"/>
  <axis xyz="0.707107 -0.707107 0.0"/>
</joint>
<transmission name="Rev61_tran">
  <type>transmission_interface/SimpleTransmission</type>
  <joint name="Rev61">
    <hardwareInterface>PositionJointInterface</hardwareInterface>
  </joint>
  <actuator name="Rev61_actr">
    <hardwareInterface>PositionJointInterface</hardwareInterface>
    <mechanicalReduction>1</mechanicalReduction>
  </actuator>
</transmission>

<joint name="Rev62" type="continuous">
  <origin rpy="0 0 0" xyz="0.016283 0.022999 -0.016285"/>
  <parent link="LeftWheel_1"/>
  <child link="satelitewheel_6"/>
  <axis xyz="0.5 -0.707107 0.5"/>
</joint>
<transmission name="Rev62_tran">
  <type>transmission_interface/SimpleTransmission</type>
  <joint name="Rev62">
    <hardwareInterface>PositionJointInterface</hardwareInterface>
  </joint>
  <actuator name="Rev62_actr">
    <hardwareInterface>PositionJointInterface</hardwareInterface>
    <mechanicalReduction>1</mechanicalReduction>
  </actuator>
</transmission>

<joint name="Rev63" type="continuous">
  <origin rpy="0 0 0" xyz="0.023029 0.022999 -1e-06"/>
  <parent link="LeftWheel_1"/>
  <child link="satelitewheel_7"/>
  <axis xyz="-0.0 -0.707107 0.707107"/>
</joint>
<transmission name="Rev63_tran">
  <type>transmission_interface/SimpleTransmission</type>
  <joint name="Rev63">
    <hardwareInterface>PositionJointInterface</hardwareInterface>
  </joint>
  <actuator name="Rev63_actr">
    <hardwareInterface>PositionJointInterface</hardwareInterface>
    <mechanicalReduction>1</mechanicalReduction>
  </actuator>
</transmission>

<joint name="Rev64" type="continuous">
  <origin rpy="0 0 0" xyz="0.016285 0.022999 0.016283"/>
  <parent link="LeftWheel_1"/>
  <child link="satelitewheel_8"/>
  <axis xyz="-0.5 -0.707107 0.5"/>
</joint>
<transmission name="Rev64_tran">
  <type>transmission_interface/SimpleTransmission</type>
  <joint name="Rev64">
    <hardwareInterface>PositionJointInterface</hardwareInterface>
  </joint>
  <actuator name="Rev64_actr">
    <hardwareInterface>PositionJointInterface</hardwareInterface>
    <mechanicalReduction>1</mechanicalReduction>
  </actuator>
</transmission>

<joint name="Rev66" type="continuous">
  <origin rpy="0 0 0" xyz="-0.016285 0.022999 0.016283"/>
  <parent link="RightWheel_1"/>
  <child link="satelitewheel_r_1"/>
  <axis xyz="-0.5 0.707107 -0.5"/>
</joint>
<transmission name="Rev66_tran">
  <type>transmission_interface/SimpleTransmission</type>
  <joint name="Rev66">
    <hardwareInterface>PositionJointInterface</hardwareInterface>
  </joint>
  <actuator name="Rev66_actr">
    <hardwareInterface>PositionJointInterface</hardwareInterface>
    <mechanicalReduction>1</mechanicalReduction>
  </actuator>
</transmission>

<joint name="Rev67" type="continuous">
  <origin rpy="0 0 0" xyz="-0.023029 0.022999 -1e-06"/>
  <parent link="RightWheel_1"/>
  <child link="satelitewheel_r_2"/>
  <axis xyz="0.0 0.707107 -0.707107"/>
</joint>
<transmission name="Rev67_tran">
  <type>transmission_interface/SimpleTransmission</type>
  <joint name="Rev67">
    <hardwareInterface>PositionJointInterface</hardwareInterface>
  </joint>
  <actuator name="Rev67_actr">
    <hardwareInterface>PositionJointInterface</hardwareInterface>
    <mechanicalReduction>1</mechanicalReduction>
  </actuator>
</transmission>

<joint name="Rev68" type="continuous">
  <origin rpy="0 0 0" xyz="-0.016283 0.022999 -0.016285"/>
  <parent link="RightWheel_1"/>
  <child link="satelitewheel_r_3"/>
  <axis xyz="0.5 0.707107 -0.5"/>
</joint>
<transmission name="Rev68_tran">
  <type>transmission_interface/SimpleTransmission</type>
  <joint name="Rev68">
    <hardwareInterface>PositionJointInterface</hardwareInterface>
  </joint>
  <actuator name="Rev68_actr">
    <hardwareInterface>PositionJointInterface</hardwareInterface>
    <mechanicalReduction>1</mechanicalReduction>
  </actuator>
</transmission>

<joint name="Rev69" type="continuous">
  <origin rpy="0 0 0" xyz="1e-06 0.022999 -0.023029"/>
  <parent link="RightWheel_1"/>
  <child link="satelitewheel_r_4"/>
  <axis xyz="0.707107 0.707107 0.0"/>
</joint>
<transmission name="Rev69_tran">
  <type>transmission_interface/SimpleTransmission</type>
  <joint name="Rev69">
    <hardwareInterface>PositionJointInterface</hardwareInterface>
  </joint>
  <actuator name="Rev69_actr">
    <hardwareInterface>PositionJointInterface</hardwareInterface>
    <mechanicalReduction>1</mechanicalReduction>
  </actuator>
</transmission>

<joint name="Rev70" type="continuous">
  <origin rpy="0 0 0" xyz="0.016285 0.022999 -0.016283"/>
  <parent link="RightWheel_1"/>
  <child link="satelitewheel_r_5"/>
  <axis xyz="0.5 0.707107 0.5"/>
</joint>
<transmission name="Rev70_tran">
  <type>transmission_interface/SimpleTransmission</type>
  <joint name="Rev70">
    <hardwareInterface>PositionJointInterface</hardwareInterface>
  </joint>
  <actuator name="Rev70_actr">
    <hardwareInterface>PositionJointInterface</hardwareInterface>
    <mechanicalReduction>1</mechanicalReduction>
  </actuator>
</transmission>

<joint name="Rev71" type="continuous">
  <origin rpy="0 0 0" xyz="0.023029 0.022999 1e-06"/>
  <parent link="RightWheel_1"/>
  <child link="satelitewheel_r_6"/>
  <axis xyz="-0.0 0.707107 0.707107"/>
</joint>
<transmission name="Rev71_tran">
  <type>transmission_interface/SimpleTransmission</type>
  <joint name="Rev71">
    <hardwareInterface>PositionJointInterface</hardwareInterface>
  </joint>
  <actuator name="Rev71_actr">
    <hardwareInterface>PositionJointInterface</hardwareInterface>
    <mechanicalReduction>1</mechanicalReduction>
  </actuator>
</transmission>

<joint name="Rev72" type="continuous">
  <origin rpy="0 0 0" xyz="0.016283 0.022999 0.016285"/>
  <parent link="RightWheel_1"/>
  <child link="satelitewheel_r_7"/>
  <axis xyz="-0.5 0.707107 0.5"/>
</joint>
<transmission name="Rev72_tran">
  <type>transmission_interface/SimpleTransmission</type>
  <joint name="Rev72">
    <hardwareInterface>PositionJointInterface</hardwareInterface>
  </joint>
  <actuator name="Rev72_actr">
    <hardwareInterface>PositionJointInterface</hardwareInterface>
    <mechanicalReduction>1</mechanicalReduction>
  </actuator>
</transmission>

<joint name="Rev73" type="continuous">
  <origin rpy="0 0 0" xyz="-1e-06 0.022999 0.023029"/>
  <parent link="RightWheel_1"/>
  <child link="satelitewheel_r_8"/>
  <axis xyz="-0.707107 0.707107 -0.0"/>
</joint>
<transmission name="Rev73_tran">
  <type>transmission_interface/SimpleTransmission</type>
  <joint name="Rev73">
    <hardwareInterface>PositionJointInterface</hardwareInterface>
  </joint>
  <actuator name="Rev73_actr">
    <hardwareInterface>PositionJointInterface</hardwareInterface>
    <mechanicalReduction>1</mechanicalReduction>
  </actuator>
</transmission>

<joint name="Rev76" type="continuous">
  <origin rpy="0 0 0" xyz="-1e-06 -0.022999 0.023029"/>
  <parent link="LeftWheel_2"/>
  <child link="satelitewheel_9"/>
  <axis xyz="0.707107 0.707107 0.0"/>
</joint>
<transmission name="Rev76_tran">
  <type>transmission_interface/SimpleTransmission</type>
  <joint name="Rev76">
    <hardwareInterface>PositionJointInterface</hardwareInterface>
  </joint>
  <actuator name="Rev76_actr">
    <hardwareInterface>PositionJointInterface</hardwareInterface>
    <mechanicalReduction>1</mechanicalReduction>
  </actuator>
</transmission>

<joint name="Rev77" type="continuous">
  <origin rpy="0 0 0" xyz="0.016283 -0.022999 0.016285"/>
  <parent link="LeftWheel_2"/>
  <child link="satelitewheel_11"/>
  <axis xyz="0.5 0.707107 -0.5"/>
</joint>
<transmission name="Rev77_tran">
  <type>transmission_interface/SimpleTransmission</type>
  <joint name="Rev77">
    <hardwareInterface>PositionJointInterface</hardwareInterface>
  </joint>
  <actuator name="Rev77_actr">
    <hardwareInterface>PositionJointInterface</hardwareInterface>
    <mechanicalReduction>1</mechanicalReduction>
  </actuator>
</transmission>

<joint name="Rev78" type="continuous">
  <origin rpy="0 0 0" xyz="0.023029 -0.022999 1e-06"/>
  <parent link="LeftWheel_2"/>
  <child link="satelitewheel_12"/>
  <axis xyz="0.0 0.707107 -0.707107"/>
</joint>
<transmission name="Rev78_tran">
  <type>transmission_interface/SimpleTransmission</type>
  <joint name="Rev78">
    <hardwareInterface>PositionJointInterface</hardwareInterface>
  </joint>
  <actuator name="Rev78_actr">
    <hardwareInterface>PositionJointInterface</hardwareInterface>
    <mechanicalReduction>1</mechanicalReduction>
  </actuator>
</transmission>

<joint name="Rev79" type="continuous">
  <origin rpy="0 0 0" xyz="0.016285 -0.022999 -0.016283"/>
  <parent link="LeftWheel_2"/>
  <child link="satelitewheel_10"/>
  <axis xyz="-0.5 0.707107 -0.5"/>
</joint>
<transmission name="Rev79_tran">
  <type>transmission_interface/SimpleTransmission</type>
  <joint name="Rev79">
    <hardwareInterface>PositionJointInterface</hardwareInterface>
  </joint>
  <actuator name="Rev79_actr">
    <hardwareInterface>PositionJointInterface</hardwareInterface>
    <mechanicalReduction>1</mechanicalReduction>
  </actuator>
</transmission>

<joint name="Rev80" type="continuous">
  <origin rpy="0 0 0" xyz="1e-06 -0.022999 -0.023029"/>
  <parent link="LeftWheel_2"/>
  <child link="satelitewheel_13"/>
  <axis xyz="-0.707107 0.707107 -0.0"/>
</joint>
<transmission name="Rev80_tran">
  <type>transmission_interface/SimpleTransmission</type>
  <joint name="Rev80">
    <hardwareInterface>PositionJointInterface</hardwareInterface>
  </joint>
  <actuator name="Rev80_actr">
    <hardwareInterface>PositionJointInterface</hardwareInterface>
    <mechanicalReduction>1</mechanicalReduction>
  </actuator>
</transmission>

<joint name="Rev81" type="continuous">
  <origin rpy="0 0 0" xyz="-0.016283 -0.022999 -0.016285"/>
  <parent link="LeftWheel_2"/>
  <child link="satelitewheel_16"/>
  <axis xyz="-0.5 0.707107 0.5"/>
</joint>
<transmission name="Rev81_tran">
  <type>transmission_interface/SimpleTransmission</type>
  <joint name="Rev81">
    <hardwareInterface>PositionJointInterface</hardwareInterface>
  </joint>
  <actuator name="Rev81_actr">
    <hardwareInterface>PositionJointInterface</hardwareInterface>
    <mechanicalReduction>1</mechanicalReduction>
  </actuator>
</transmission>

<joint name="Rev82" type="continuous">
  <origin rpy="0 0 0" xyz="-0.023029 -0.022999 -1e-06"/>
  <parent link="LeftWheel_2"/>
  <child link="satelitewheel_15"/>
  <axis xyz="-0.0 0.707107 0.707107"/>
</joint>
<transmission name="Rev82_tran">
  <type>transmission_interface/SimpleTransmission</type>
  <joint name="Rev82">
    <hardwareInterface>PositionJointInterface</hardwareInterface>
  </joint>
  <actuator name="Rev82_actr">
    <hardwareInterface>PositionJointInterface</hardwareInterface>
    <mechanicalReduction>1</mechanicalReduction>
  </actuator>
</transmission>

<joint name="Rev83" type="continuous">
  <origin rpy="0 0 0" xyz="-0.016285 -0.022999 0.016283"/>
  <parent link="LeftWheel_2"/>
  <child link="satelitewheel_14"/>
  <axis xyz="0.5 0.707107 0.5"/>
</joint>
<transmission name="Rev83_tran">
  <type>transmission_interface/SimpleTransmission</type>
  <joint name="Rev83">
    <hardwareInterface>PositionJointInterface</hardwareInterface>
  </joint>
  <actuator name="Rev83_actr">
    <hardwareInterface>PositionJointInterface</hardwareInterface>
    <mechanicalReduction>1</mechanicalReduction>
  </actuator>
</transmission>

<joint name="Rev84" type="continuous">
  <origin rpy="0 0 0" xyz="0.016285 -0.022999 0.016283"/>
  <parent link="RightWheel_2"/>
  <child link="satelitewheel_r_9"/>
  <axis xyz="0.5 -0.707107 -0.5"/>
</joint>
<transmission name="Rev84_tran">
  <type>transmission_interface/SimpleTransmission</type>
  <joint name="Rev84">
    <hardwareInterface>PositionJointInterface</hardwareInterface>
  </joint>
  <actuator name="Rev84_actr">
    <hardwareInterface>PositionJointInterface</hardwareInterface>
    <mechanicalReduction>1</mechanicalReduction>
  </actuator>
</transmission>

<joint name="Rev85" type="continuous">
  <origin rpy="0 0 0" xyz="0.023029 -0.022999 -1e-06"/>
  <parent link="RightWheel_2"/>
  <child link="satelitewheel_r_10"/>
  <axis xyz="0.0 -0.707107 -0.707107"/>
</joint>
<transmission name="Rev85_tran">
  <type>transmission_interface/SimpleTransmission</type>
  <joint name="Rev85">
    <hardwareInterface>PositionJointInterface</hardwareInterface>
  </joint>
  <actuator name="Rev85_actr">
    <hardwareInterface>PositionJointInterface</hardwareInterface>
    <mechanicalReduction>1</mechanicalReduction>
  </actuator>
</transmission>

<joint name="Rev86" type="continuous">
  <origin rpy="0 0 0" xyz="0.016283 -0.022999 -0.016285"/>
  <parent link="RightWheel_2"/>
  <child link="satelitewheel_r_11"/>
  <axis xyz="-0.5 -0.707107 -0.5"/>
</joint>
<transmission name="Rev86_tran">
  <type>transmission_interface/SimpleTransmission</type>
  <joint name="Rev86">
    <hardwareInterface>PositionJointInterface</hardwareInterface>
  </joint>
  <actuator name="Rev86_actr">
    <hardwareInterface>PositionJointInterface</hardwareInterface>
    <mechanicalReduction>1</mechanicalReduction>
  </actuator>
</transmission>

<joint name="Rev87" type="continuous">
  <origin rpy="0 0 0" xyz="-2e-06 -0.022999 -0.023029"/>
  <parent link="RightWheel_2"/>
  <child link="satelitewheel_r_16"/>
  <axis xyz="-0.707107 -0.707107 -0.0"/>
</joint>
<transmission name="Rev87_tran">
  <type>transmission_interface/SimpleTransmission</type>
  <joint name="Rev87">
    <hardwareInterface>PositionJointInterface</hardwareInterface>
  </joint>
  <actuator name="Rev87_actr">
    <hardwareInterface>PositionJointInterface</hardwareInterface>
    <mechanicalReduction>1</mechanicalReduction>
  </actuator>
</transmission>

<joint name="Rev88" type="continuous">
  <origin rpy="0 0 0" xyz="-0.016285 -0.022999 -0.016283"/>
  <parent link="RightWheel_2"/>
  <child link="satelitewheel_r_15"/>
  <axis xyz="-0.5 -0.707107 0.5"/>
</joint>
<transmission name="Rev88_tran">
  <type>transmission_interface/SimpleTransmission</type>
  <joint name="Rev88">
    <hardwareInterface>PositionJointInterface</hardwareInterface>
  </joint>
  <actuator name="Rev88_actr">
    <hardwareInterface>PositionJointInterface</hardwareInterface>
    <mechanicalReduction>1</mechanicalReduction>
  </actuator>
</transmission>

<joint name="Rev89" type="continuous">
  <origin rpy="0 0 0" xyz="-0.023029 -0.022999 1e-06"/>
  <parent link="RightWheel_2"/>
  <child link="satelitewheel_r_12"/>
  <axis xyz="-0.0 -0.707107 0.707107"/>
</joint>
<transmission name="Rev89_tran">
  <type>transmission_interface/SimpleTransmission</type>
  <joint name="Rev89">
    <hardwareInterface>PositionJointInterface</hardwareInterface>
  </joint>
  <actuator name="Rev89_actr">
    <hardwareInterface>PositionJointInterface</hardwareInterface>
    <mechanicalReduction>1</mechanicalReduction>
  </actuator>
</transmission>

<joint name="Rev90" type="continuous">
  <origin rpy="0 0 0" xyz="-0.016283 -0.022999 0.016285"/>
  <parent link="RightWheel_2"/>
  <child link="satelitewheel_r_13"/>
  <axis xyz="0.5 -0.707107 0.5"/>
</joint>
<transmission name="Rev90_tran">
  <type>transmission_interface/SimpleTransmission</type>
  <joint name="Rev90">
    <hardwareInterface>PositionJointInterface</hardwareInterface>
  </joint>
  <actuator name="Rev90_actr">
    <hardwareInterface>PositionJointInterface</hardwareInterface>
    <mechanicalReduction>1</mechanicalReduction>
  </actuator>
</transmission>

<joint name="Rev91" type="continuous">
  <origin rpy="0 0 0" xyz="1e-06 -0.022999 0.023029"/>
  <parent link="RightWheel_2"/>
  <child link="satelitewheel_r_14"/>
  <axis xyz="0.707107 -0.707107 0.0"/>
</joint>
<transmission name="Rev91_tran">
  <type>transmission_interface/SimpleTransmission</type>
  <joint name="Rev91">
    <hardwareInterface>PositionJointInterface</hardwareInterface>
  </joint>
  <actuator name="Rev91_actr">
    <hardwareInterface>PositionJointInterface</hardwareInterface>
    <mechanicalReduction>1</mechanicalReduction>
  </actuator>
</transmission>

<joint name="FL" type="continuous">
  <origin rpy="0 0 0" xyz="-0.0155 0.0135 -0.007"/>
  <parent link="Wheel_Motor_2"/>
  <child link="LeftWheel_1"/>
  <axis xyz="0.0 -1.0 -0.0"/>
</joint>
<transmission name="FL_tran">
  <type>transmission_interface/SimpleTransmission</type>
  <joint name="FL">
    <hardwareInterface>PositionJointInterface</hardwareInterface>
  </joint>
  <actuator name="FL_actr">
    <hardwareInterface>PositionJointInterface</hardwareInterface>
    <mechanicalReduction>1</mechanicalReduction>
  </actuator>
</transmission>

<joint name="BL" type="continuous">
  <origin rpy="0 0 0" xyz="-0.0155 0.0135 -0.007"/>
  <parent link="Wheel_Motor_1"/>
  <child link="RightWheel_1"/>
  <axis xyz="0.0 -1.0 -0.0"/>
</joint>
<transmission name="BL_tran">
  <type>transmission_interface/SimpleTransmission</type>
  <joint name="BL">
    <hardwareInterface>PositionJointInterface</hardwareInterface>
  </joint>
  <actuator name="BL_actr">
    <hardwareInterface>PositionJointInterface</hardwareInterface>
    <mechanicalReduction>1</mechanicalReduction>
  </actuator>
</transmission>

<joint name="FR" type="continuous">
  <origin rpy="0 0 0" xyz="-0.0155 -0.0135 -0.007"/>
  <parent link="Wheel_Motor_3"/>
  <child link="RightWheel_2"/>
  <axis xyz="0.0 -1.0 0.0"/>
</joint>
<transmission name="FR_tran">
  <type>transmission_interface/SimpleTransmission</type>
  <joint name="FR">
    <hardwareInterface>PositionJointInterface</hardwareInterface>
  </joint>
  <actuator name="FR_actr">
    <hardwareInterface>PositionJointInterface</hardwareInterface>
    <mechanicalReduction>1</mechanicalReduction>
  </actuator>
</transmission>

<joint name="BR" type="continuous">
  <origin rpy="0 0 0" xyz="0.0155 -0.0135 -0.007"/>
  <parent link="Wheel_Motor_4"/>
  <child link="LeftWheel_2"/>
  <axis xyz="0.0 -1.0 0.0"/>
</joint>
<transmission name="BR_tran">
  <type>transmission_interface/SimpleTransmission</type>
  <joint name="BR">
    <hardwareInterface>PositionJointInterface</hardwareInterface>
  </joint>
  <actuator name="BR_actr">
    <hardwareInterface>PositionJointInterface</hardwareInterface>
    <mechanicalReduction>1</mechanicalReduction>
  </actuator>
</transmission>

<joint name="Rigid96" type="fixed">
  <origin rpy="0 0 0" xyz="0.024873 0.0186 0.008015"/>
  <parent link="carboat_3_1"/>
  <child link="Servo2_1"/>
</joint>

<joint name="Head_motor" type="continuous">
  <origin rpy="0 0 0" xyz="-0.01545 0.0154 0.005"/>
  <parent link="Servo2_1"/>
  <child link="Gear_Pan_Neck_1"/>
  <axis xyz="-0.0 1.0 0.0"/>
</joint>
<transmission name="Head_motor_tran">
  <type>transmission_interface/SimpleTransmission</type>
  <joint name="Head_motor">
    <hardwareInterface>PositionJointInterface</hardwareInterface>
  </joint>
  <actuator name="Head_motor_actr">
    <hardwareInterface>PositionJointInterface</hardwareInterface>
    <mechanicalReduction>1</mechanicalReduction>
  </actuator>
</transmission>

</robot>
